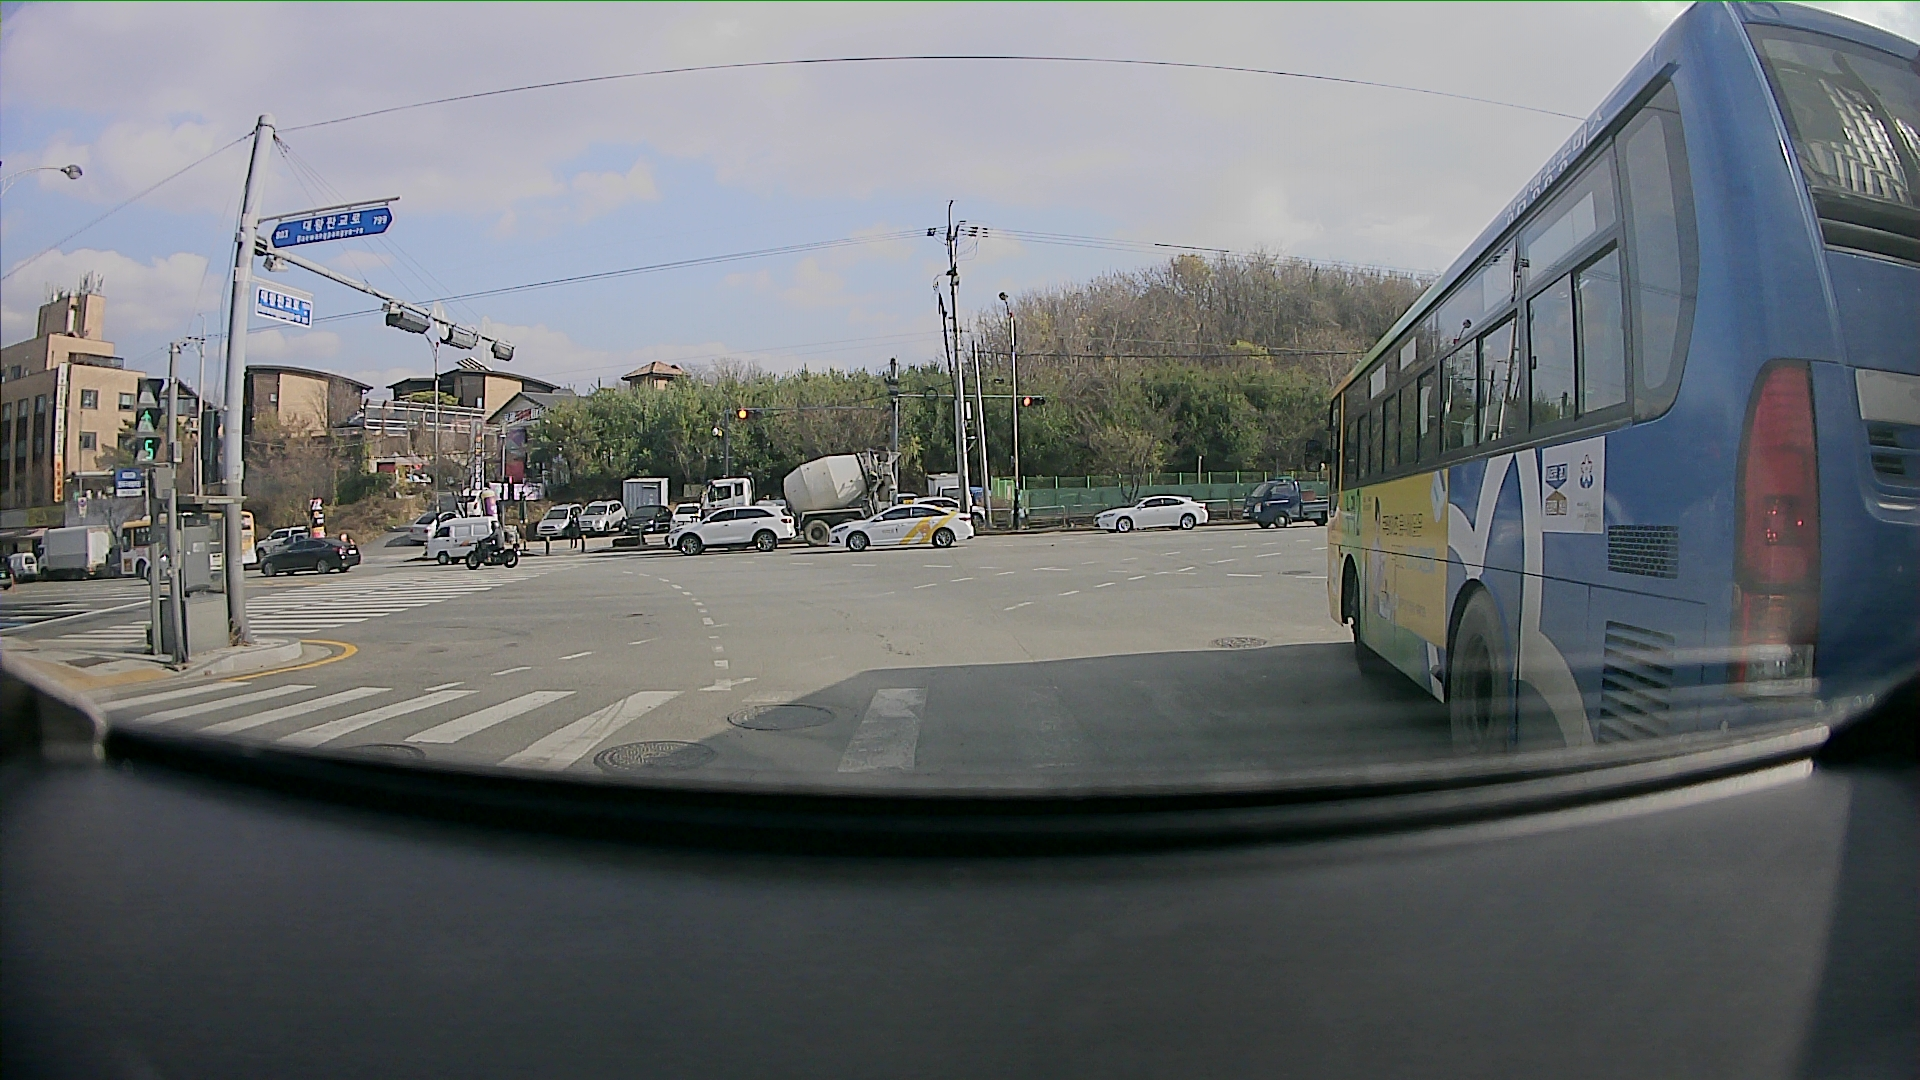trafficLight: (732, 406, 770, 425), (1023, 390, 1048, 409)
